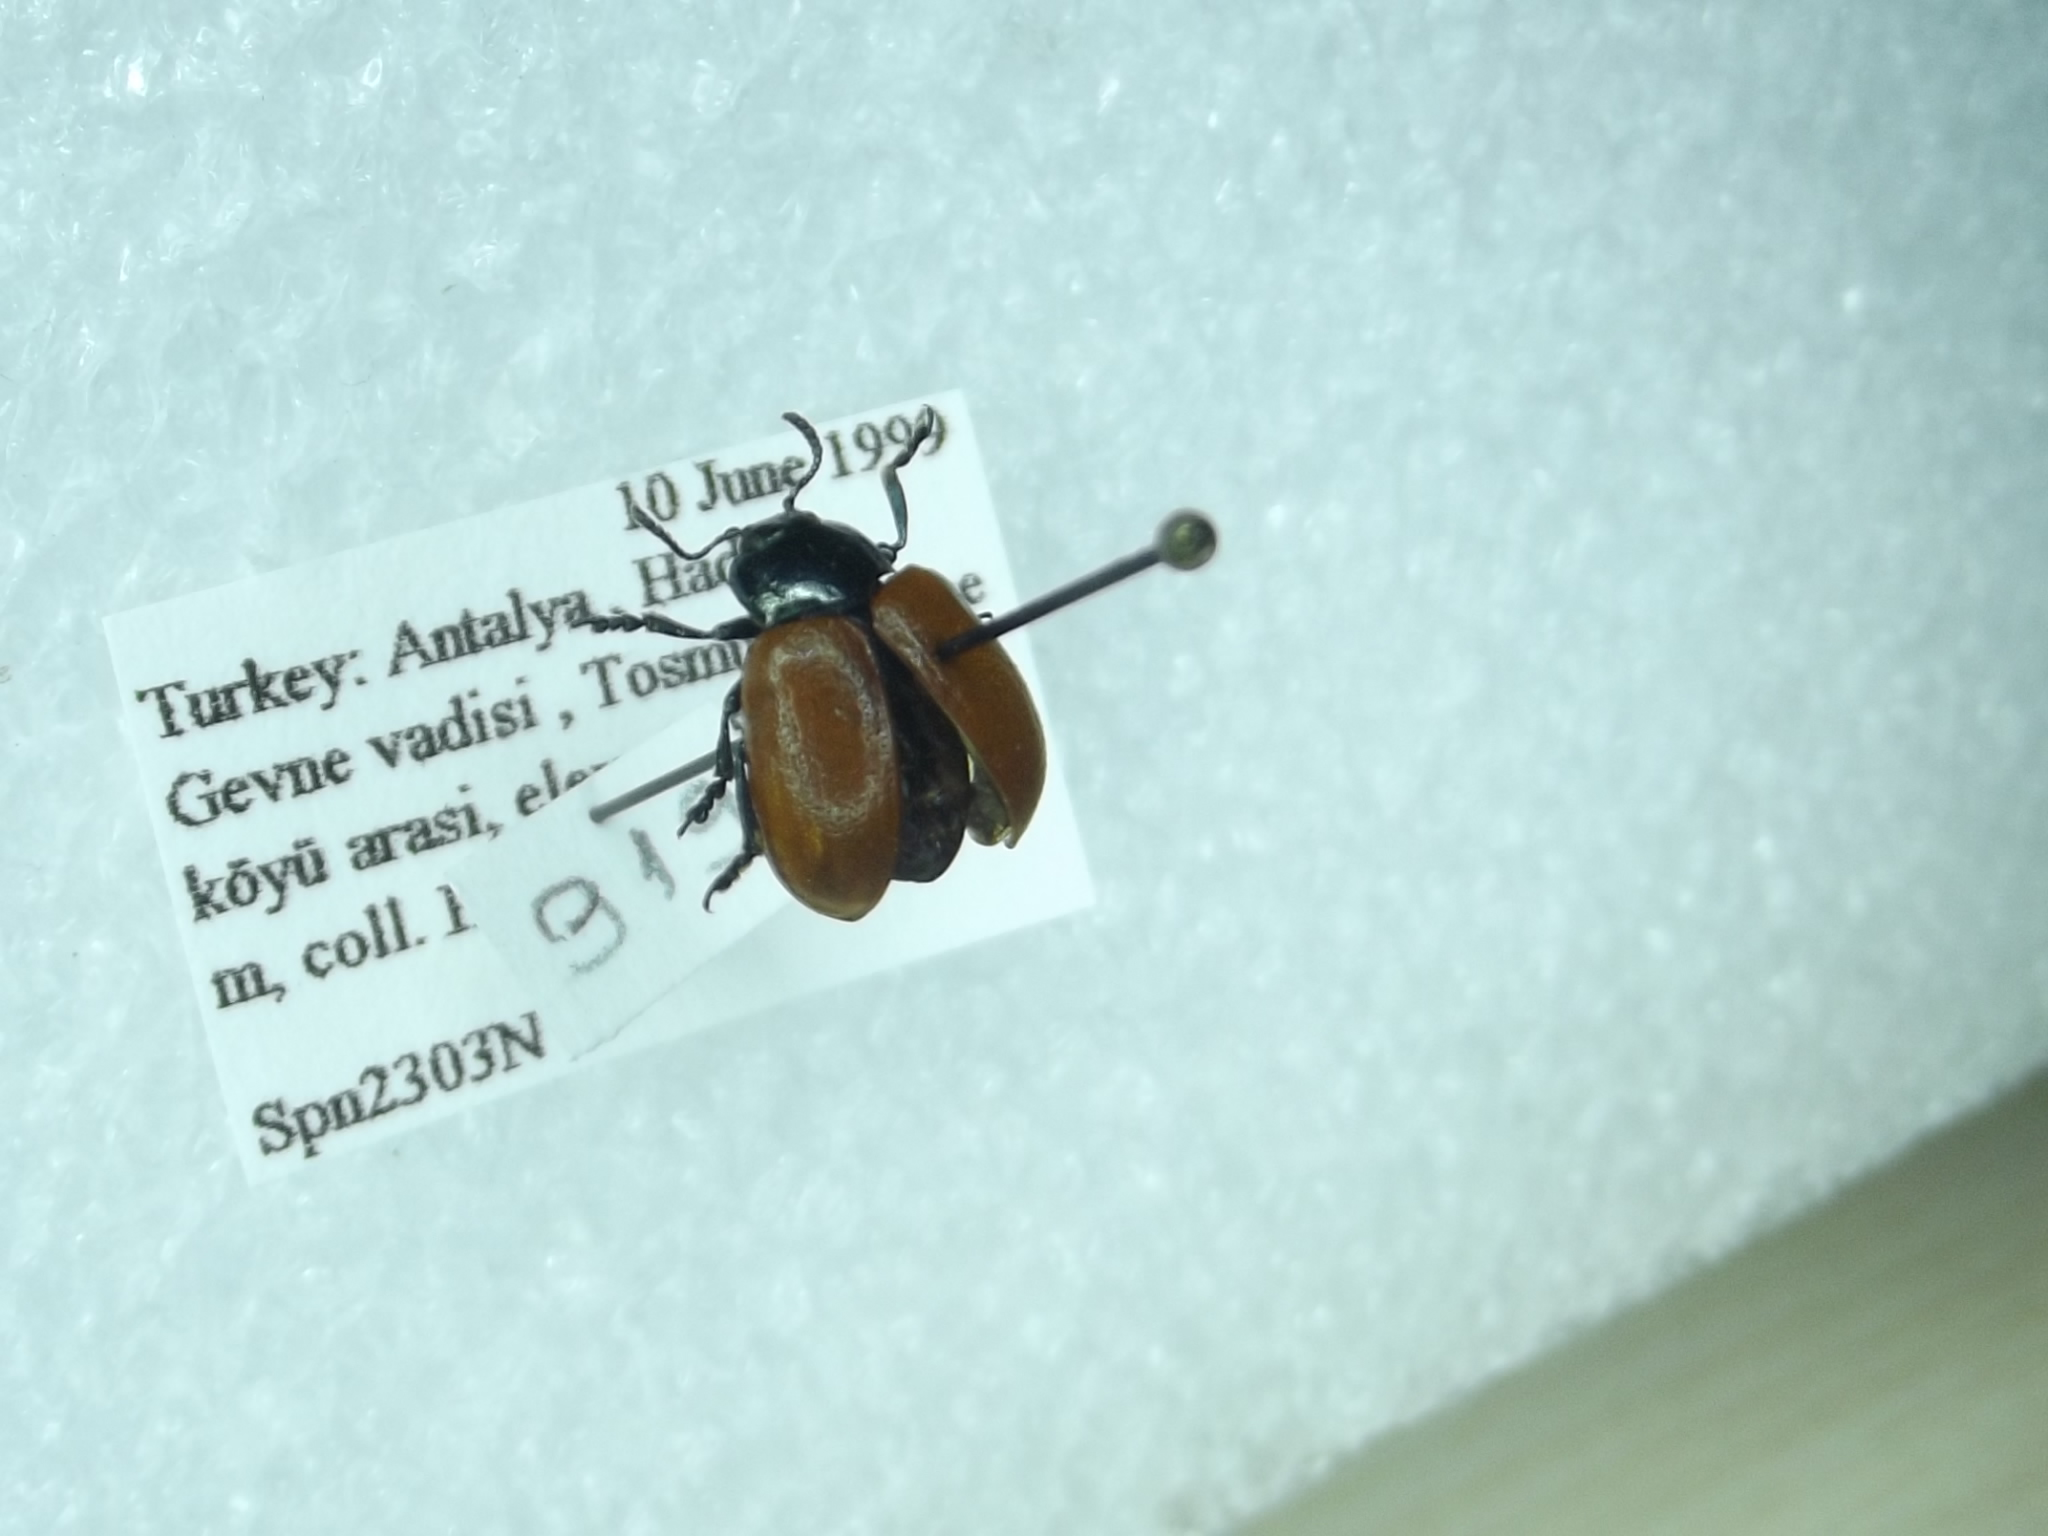Chrysomela_populi: (577, 378, 1053, 939)
